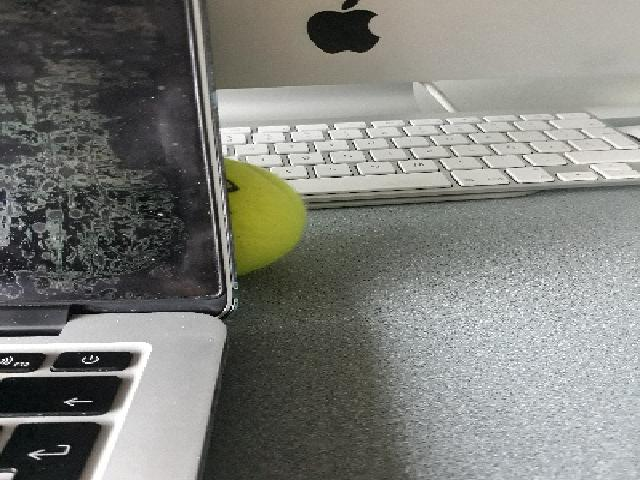Ball: (221, 158, 306, 280)
